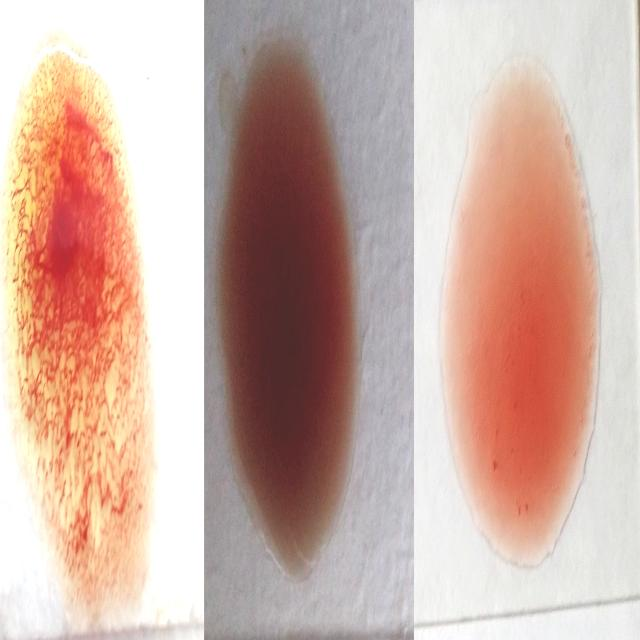B: (5, 32, 154, 608)
